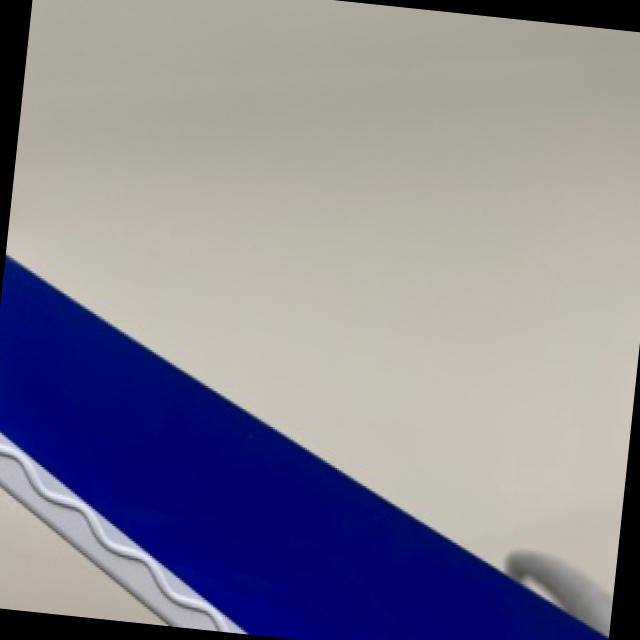healthy: (0, 452, 213, 628)
